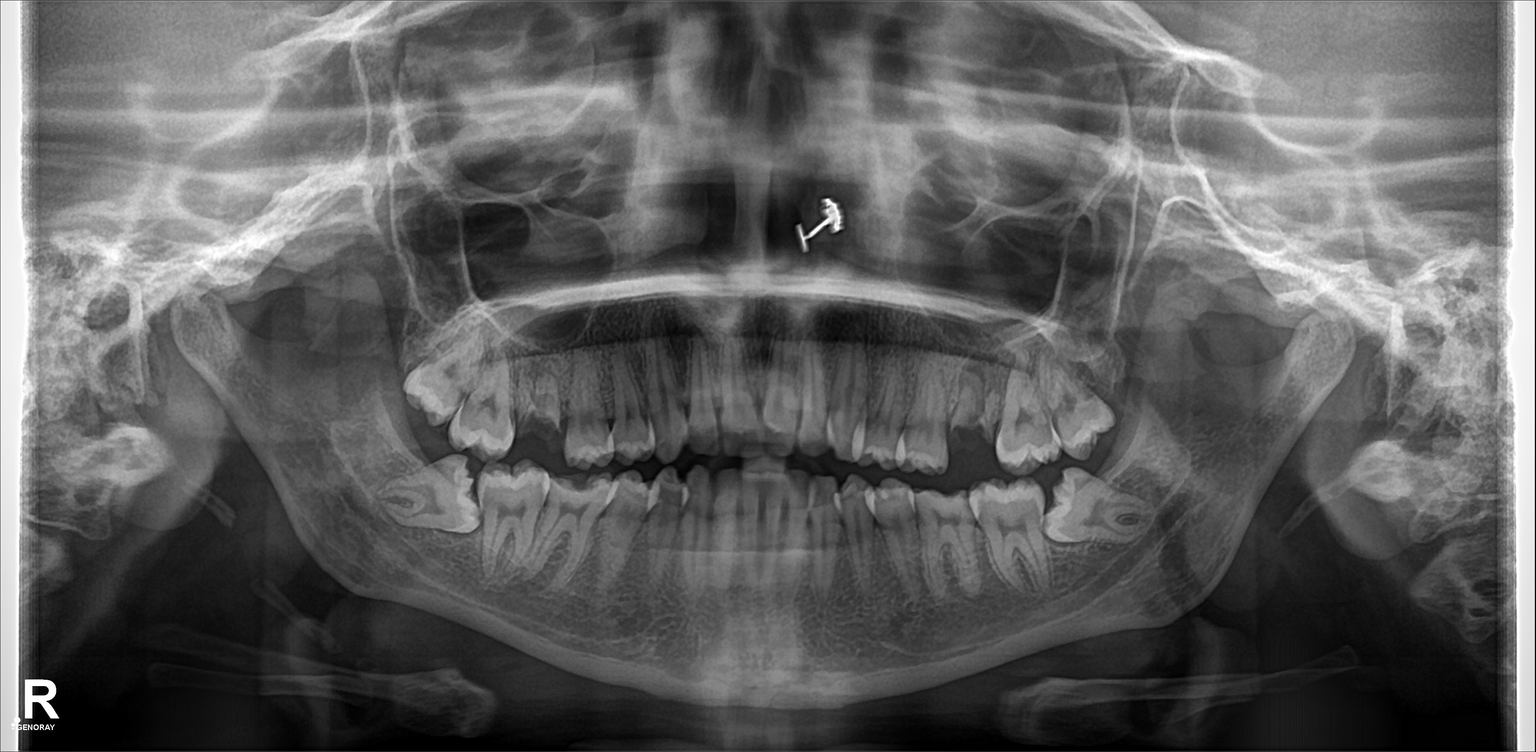Impacted Third Molar: (1053, 469, 1165, 545), (393, 462, 483, 529)
Retained Root: (518, 370, 562, 454), (950, 376, 995, 454)
